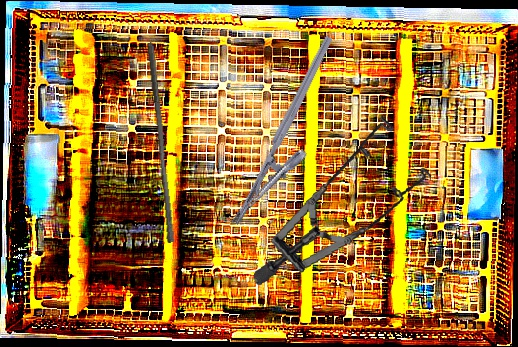Needle Holder: (229, 34, 360, 239)
Pusher: (139, 41, 182, 244)
Speculum: (234, 109, 443, 287)
